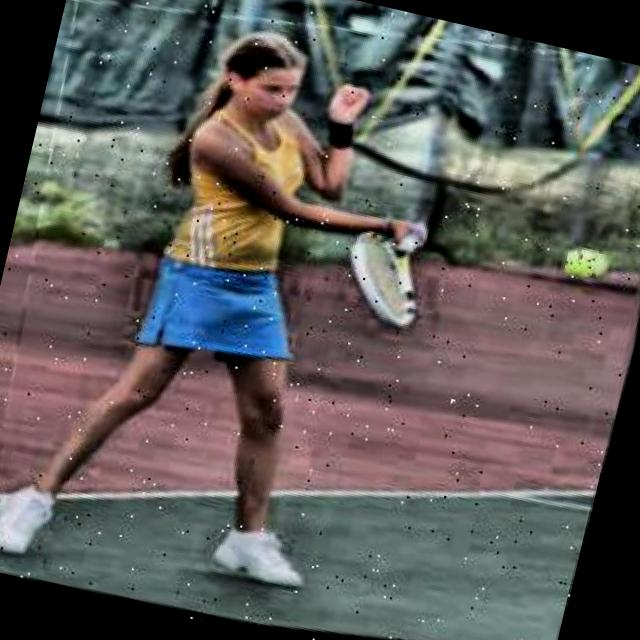tennis-ball: (562, 246, 606, 286)
